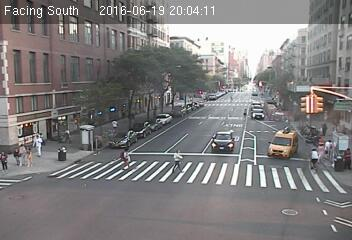neg: (175, 106, 191, 127), (254, 131, 268, 149), (217, 100, 228, 115), (253, 105, 264, 120)
pos: (167, 148, 188, 176), (105, 112, 124, 136), (117, 142, 135, 167)
